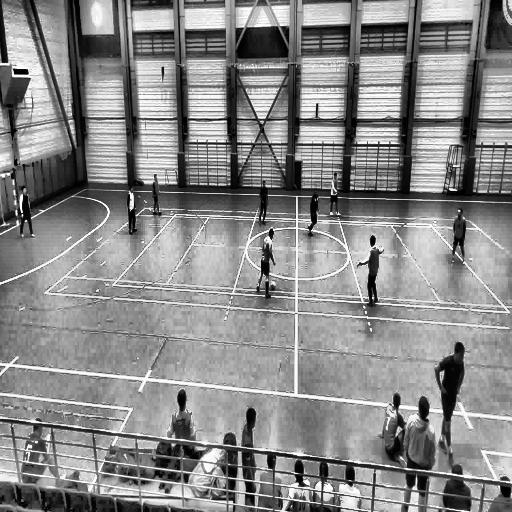ball: (270, 280, 276, 292)
player: (400, 397, 436, 510), (435, 342, 466, 464), (19, 416, 66, 486), (377, 392, 407, 466), (358, 235, 383, 307), (240, 407, 258, 507), (166, 387, 197, 442), (438, 462, 471, 512), (336, 452, 362, 512), (284, 455, 311, 512), (257, 452, 283, 511), (310, 453, 336, 512), (256, 228, 276, 298), (487, 473, 512, 512), (449, 207, 466, 264), (19, 185, 36, 238), (307, 191, 319, 238), (127, 184, 137, 233), (328, 172, 339, 215), (258, 180, 268, 224), (152, 174, 162, 215)
